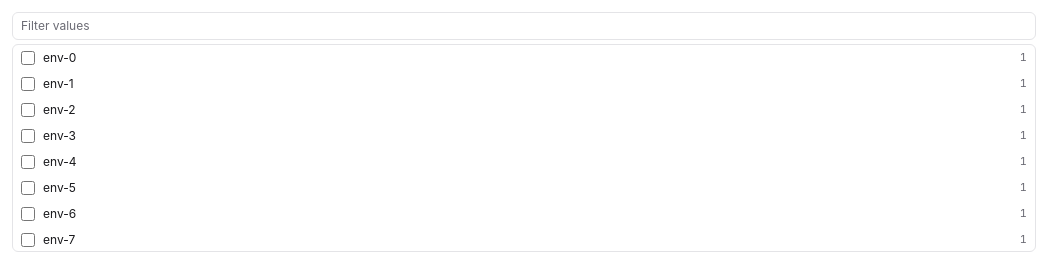
Test case: the filter box › says when nothing matches, rather than showing an empty box
Type "nope" into the field at (524, 26), box [12,12,1036,40]
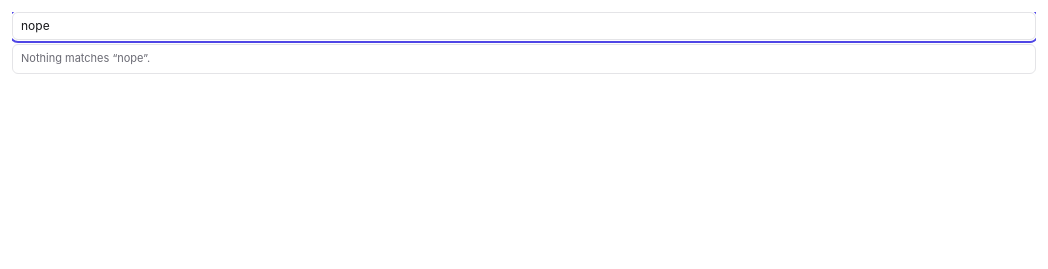
Expected: the text "Nothing matches “nope”." is shown, [21,51,150,65]
